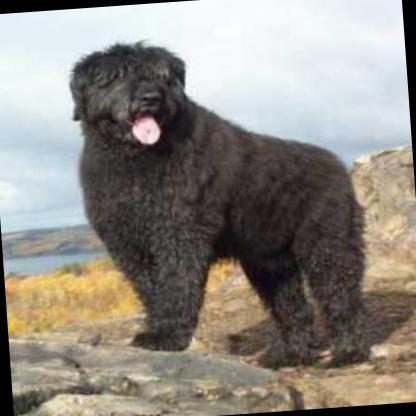Bouvier_des_Flandres: (56, 20, 383, 384)
